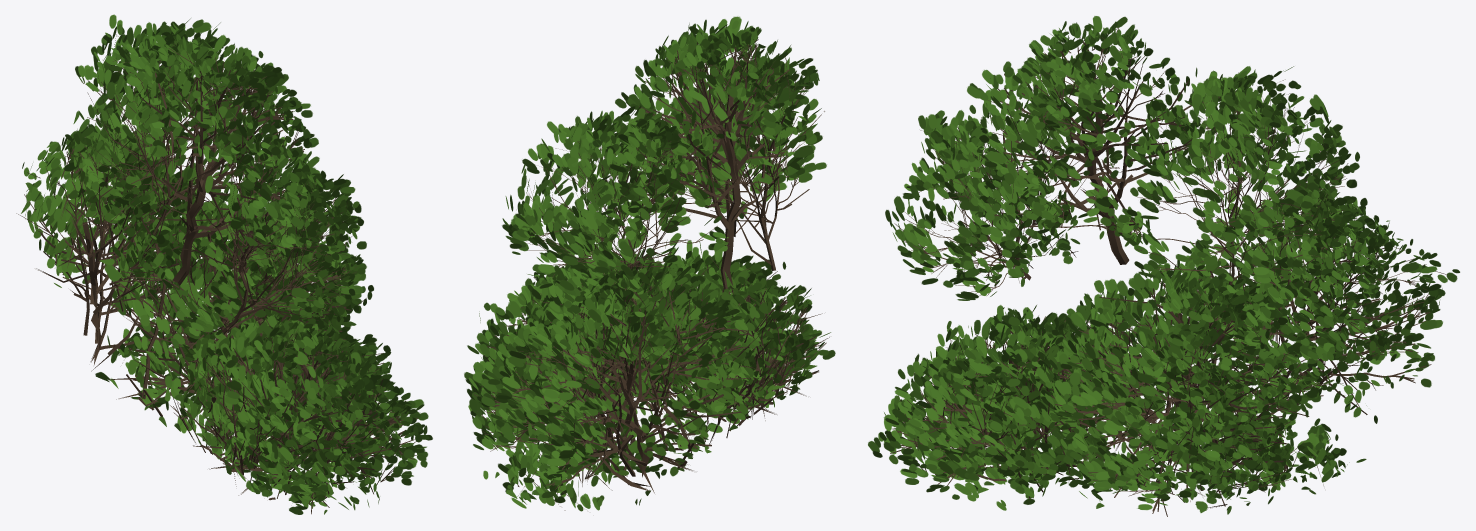
3 renders of one model, left to right at view 1: azimuth 30°, elevation 25°; view 2: azimuth 150°, elevation 25°; view 3: azimuth 270°, elevation 25°, orthographic.
Parts seen in each view (by area): view 1: oak 01.001_trunk_Mat.001_0.302; view 2: oak 01.001_trunk_Mat.001_0.302; view 3: oak 01.001_trunk_Mat.001_0.302.
Boxes of the visible parts, x1,y1,x2,y2 form: oak 01.001_trunk_Mat.001_0.302: (16, 14, 432, 514); oak 01.001_trunk_Mat.001_0.302: (464, 16, 835, 511); oak 01.001_trunk_Mat.001_0.302: (868, 16, 1459, 516).
Size of the model in its own units: 2.67 by 4.52 by 5.63.
Materials: 2 (1 with a texture image).
